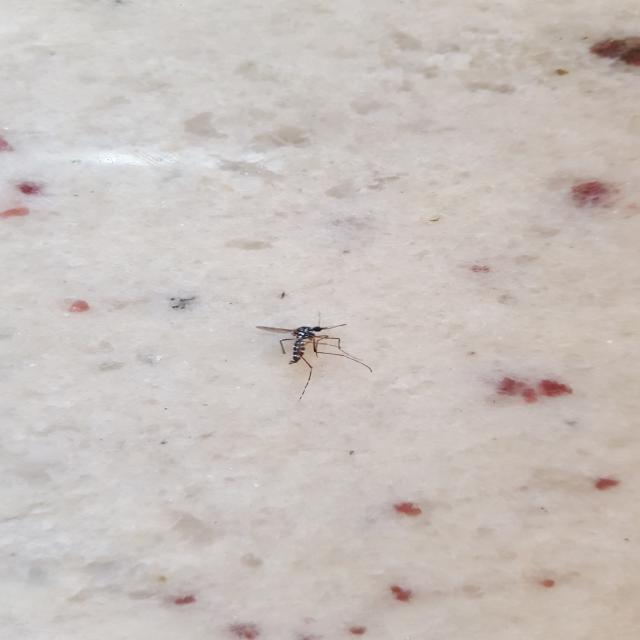albopictus: (250, 309, 378, 402)
